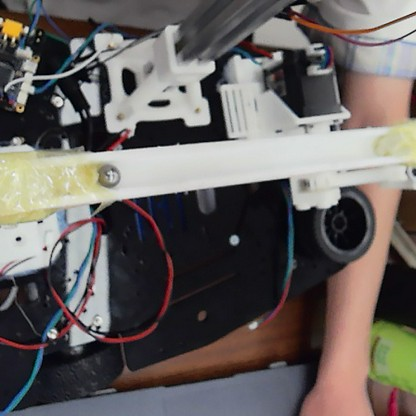ironball: (94, 161, 122, 188)
